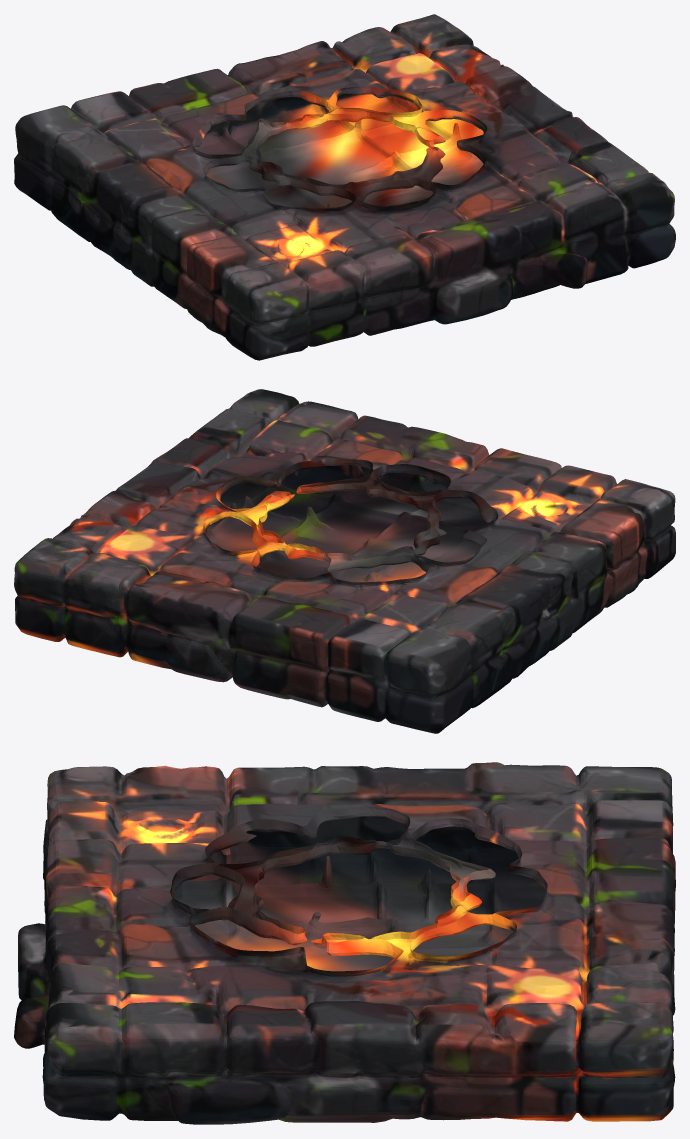
The model's file is idol_svarog_plate.glb.
The picture shows the model from 3 angles, top to bottom: view 1: azimuth 30°, elevation 25°; view 2: azimuth 150°, elevation 25°; view 3: azimuth 270°, elevation 25°; orthographic projection. The views are drawn at different scales.
Parts seen in each view (by area): view 1: idol_svarog_plate; view 2: idol_svarog_plate; view 3: idol_svarog_plate.
Part boxes in pixels (<box>): idol_svarog_plate: <box>14,14,675,360</box>; idol_svarog_plate: <box>14,389,675,733</box>; idol_svarog_plate: <box>14,762,675,1124</box>.
Bounding box in the file's own units: 2 × 0.3484 × 2.
Materials: 1 (1 with a texture image).
